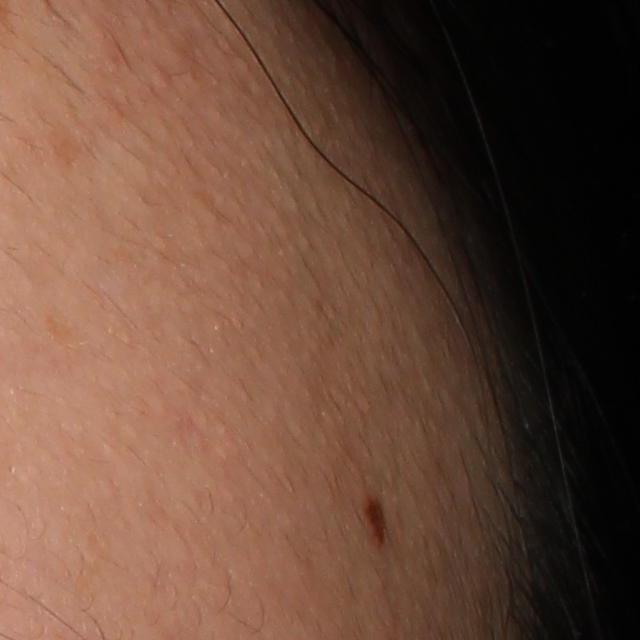nevus: (362, 490, 390, 551)
